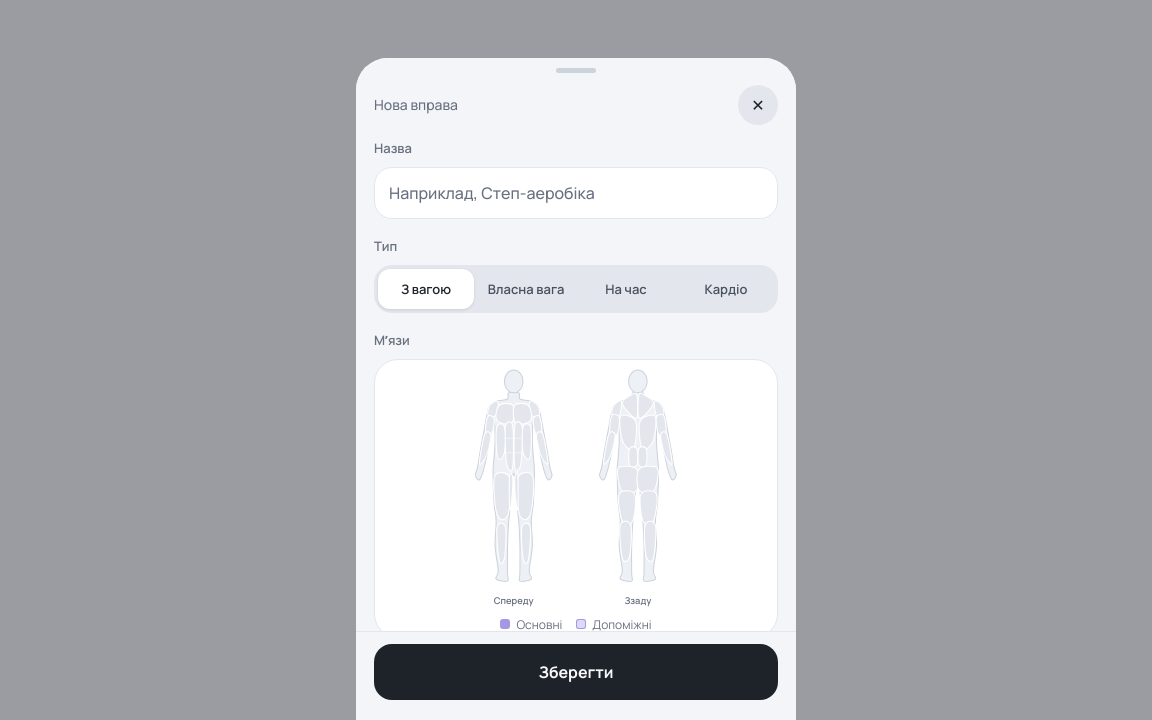
Test case: ExerciseEditorSheet › validation: name required, unique (case-insensitive), a primary muscle unless cardio; nothing saved
Click the button "Зберегти". click: {"x": 576, "y": 672}
box: left=374, top=644, right=778, bottom=700
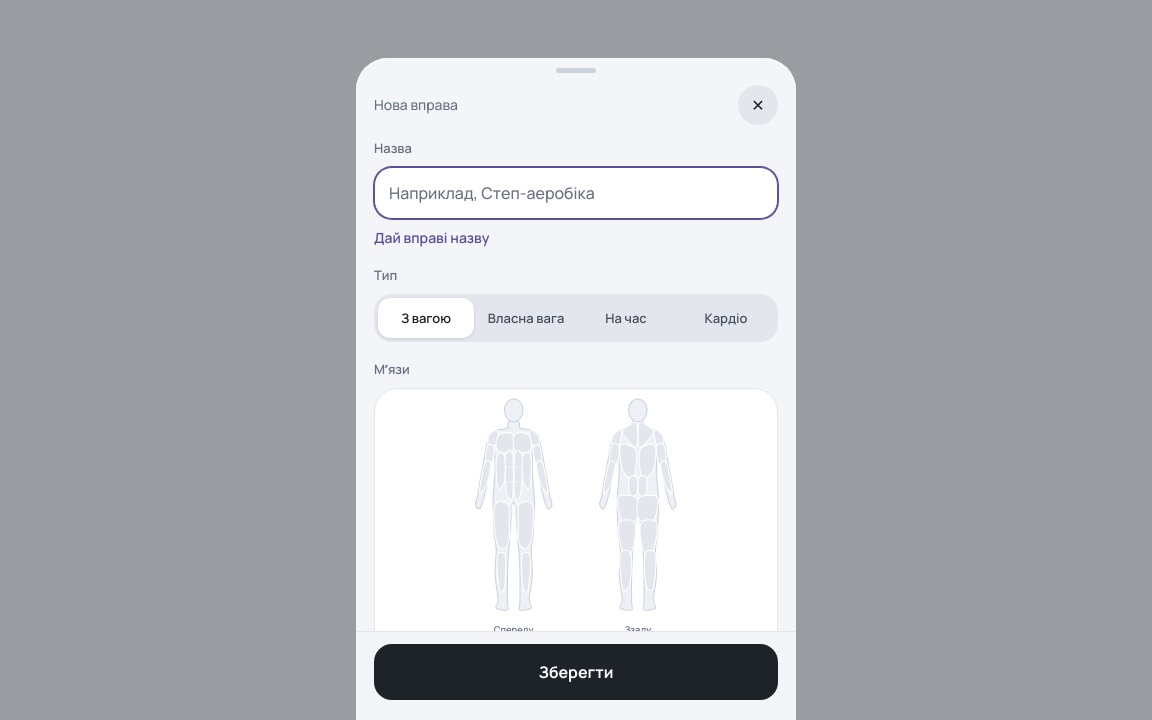
Now the text "Дай вправі назву" is shown, box left=374, top=228, right=490, bottom=247
Type "жим лежачи" into the field labelled "Назва". click: {"x": 576, "y": 193}
box: left=374, top=167, right=778, bottom=219
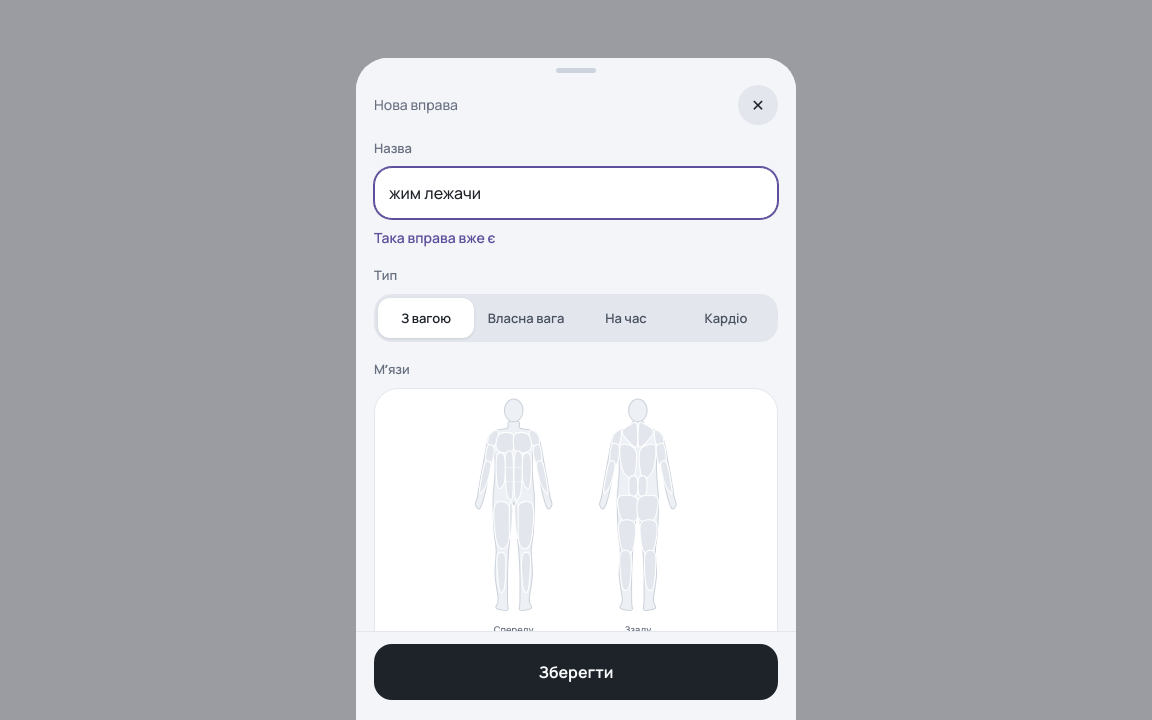
Now the text "Така вправа вже є" is shown, box left=374, top=228, right=496, bottom=247
Replace the text in the field labelled "Назва" with "степ-аеробіка". click: {"x": 576, "y": 193}
box: left=374, top=167, right=778, bottom=219
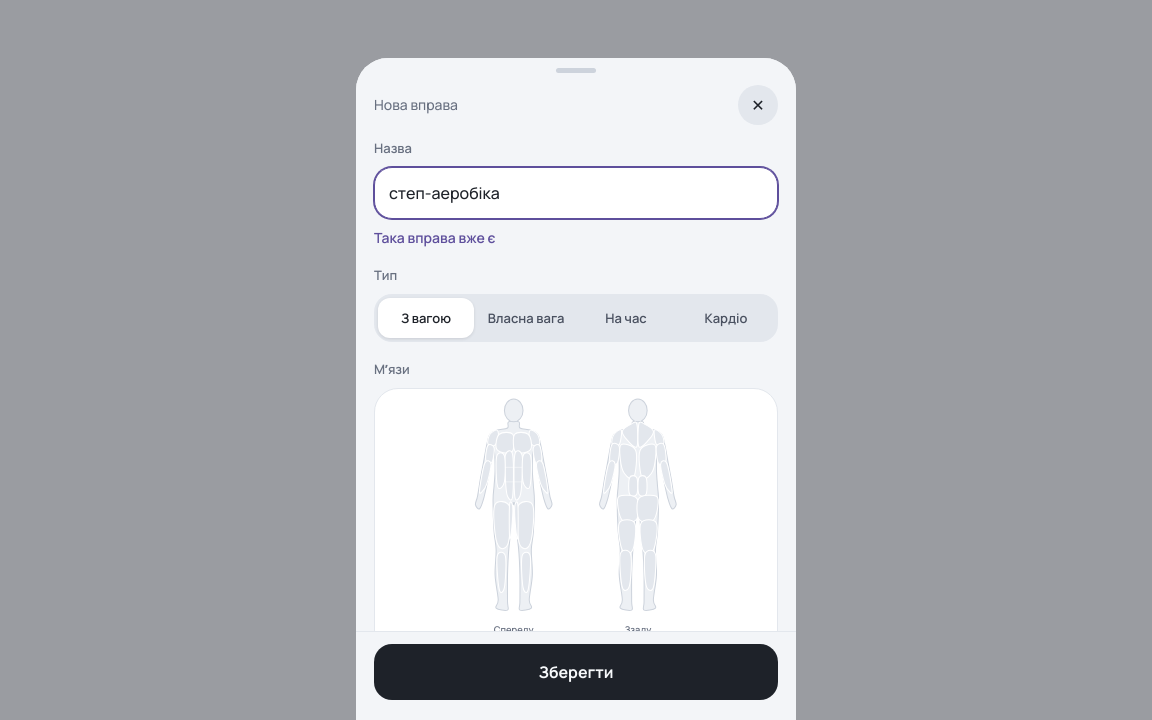
Now the text "Така вправа вже є" is shown, box left=374, top=228, right=496, bottom=247
Replace the text in the field labelled "Назва" with "Тест-вправа". click: {"x": 576, "y": 193}
box: left=374, top=167, right=778, bottom=219
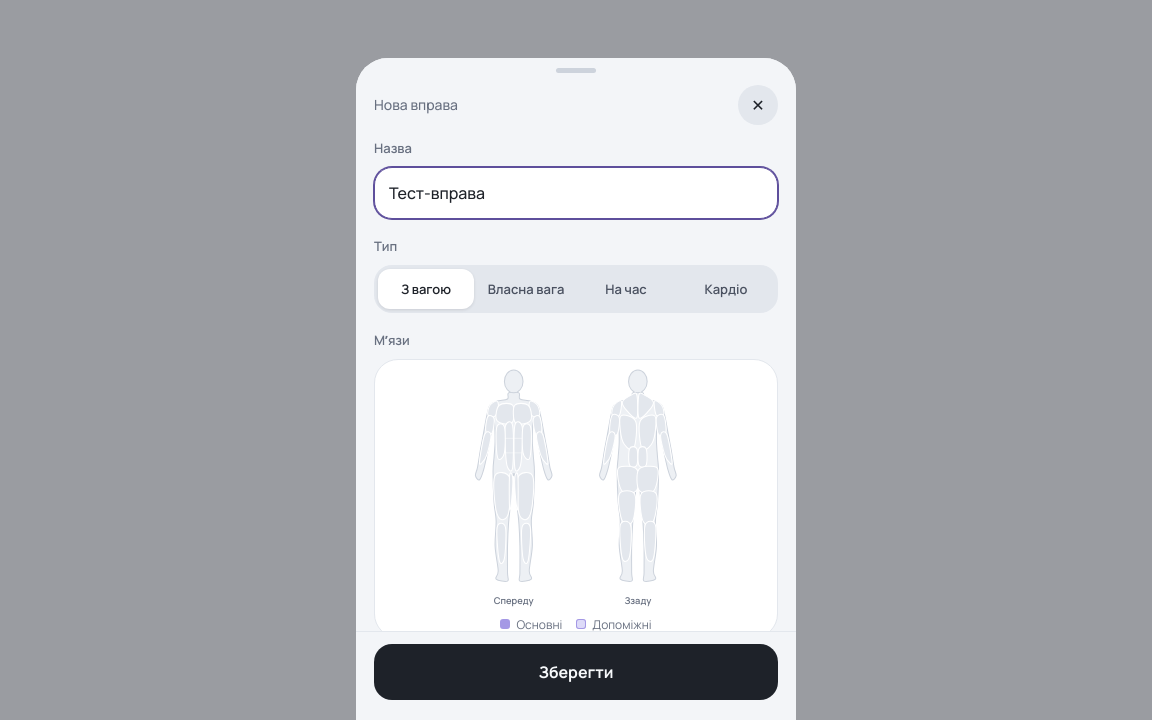
Now the text "Така вправа вже є" is gone
Click the radio button labelled "Кардіо". click: {"x": 726, "y": 289}
box: left=678, top=269, right=774, bottom=309
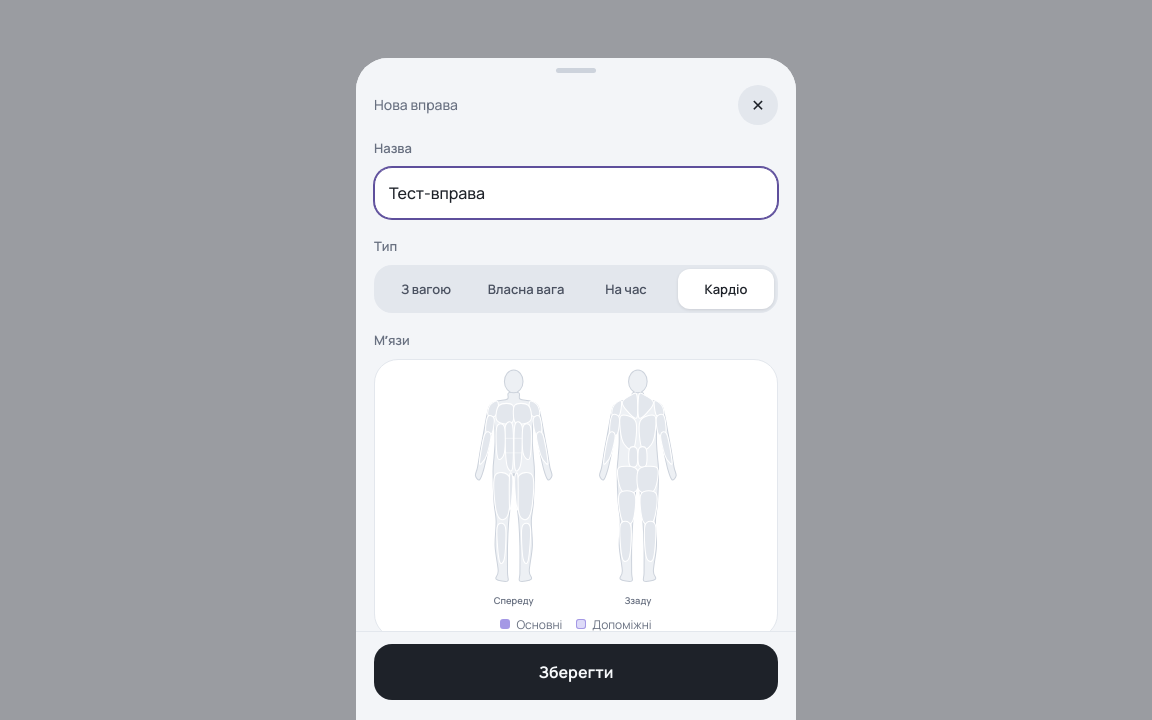
Expected: the text "Обери хоча б один основний мʼяз" is not shown
Click the radio button labelled "На час". click: {"x": 626, "y": 289}
box: left=578, top=269, right=674, bottom=309
(page scrolled)
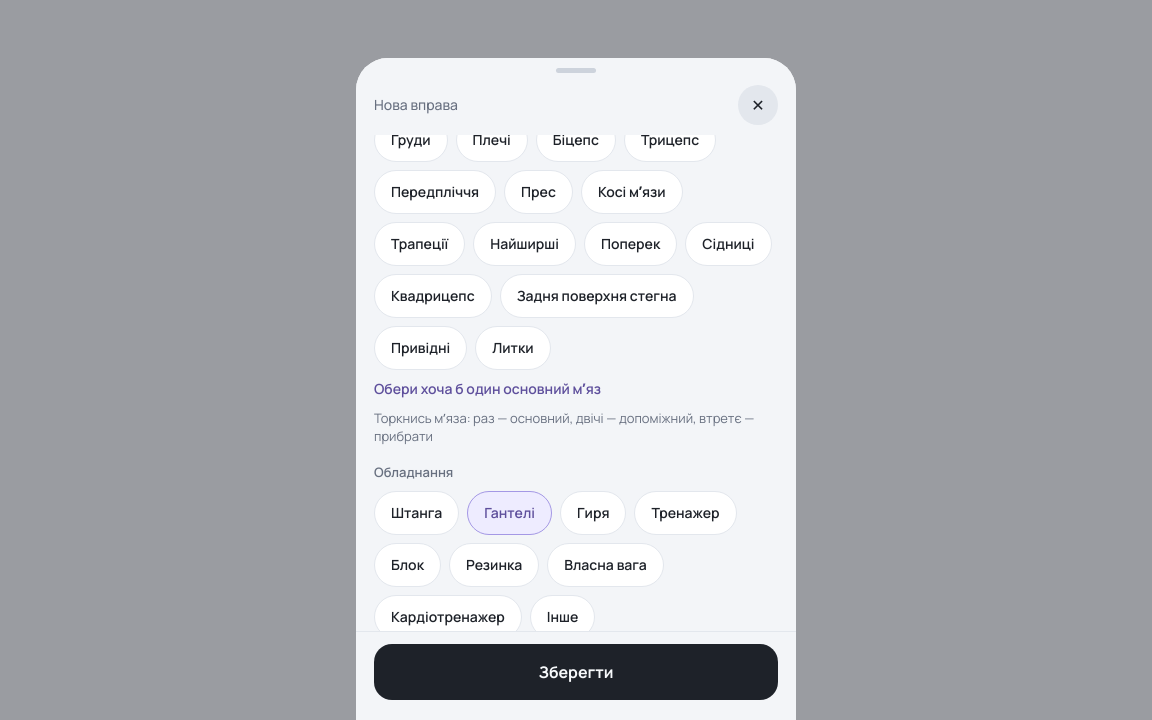
Now the text "Обери хоча б один основний мʼяз" is shown, box left=374, top=379, right=601, bottom=398
